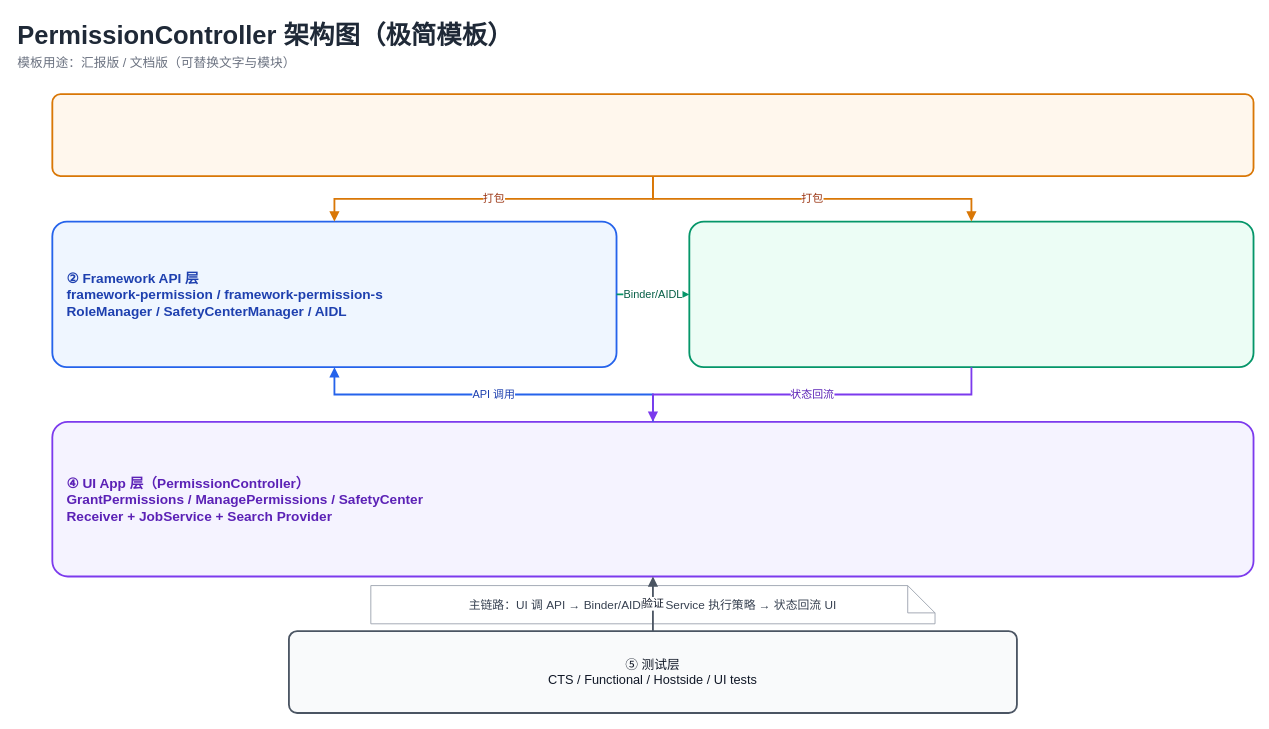
Image size: 1269x729. Some labels were removed from this diagram. Each missing label, with the centre of its shape:
"① APEX 层 com.android.permission（Mainline 可更新）" goes at point (652, 135).
"③ System Server 服务层 service-permission RoleService / SafetyCenterService / ECM" goes at point (971, 294).
